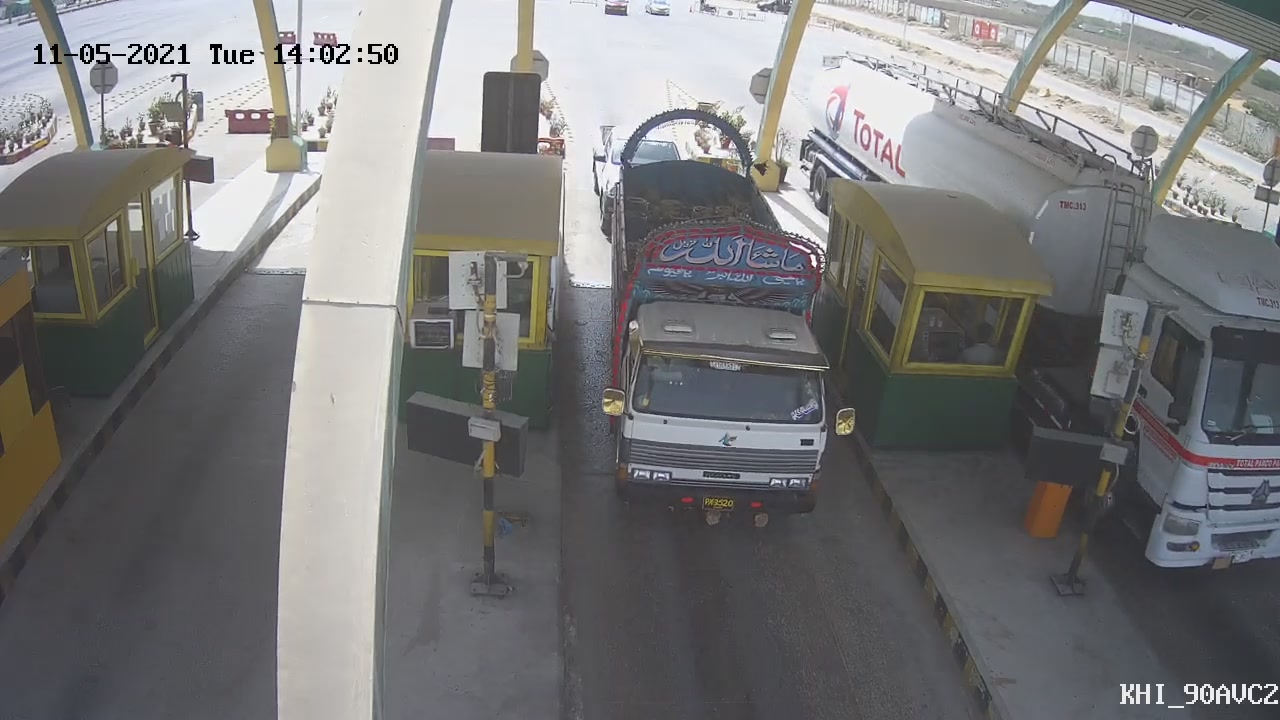F5: (592, 108, 833, 515)
